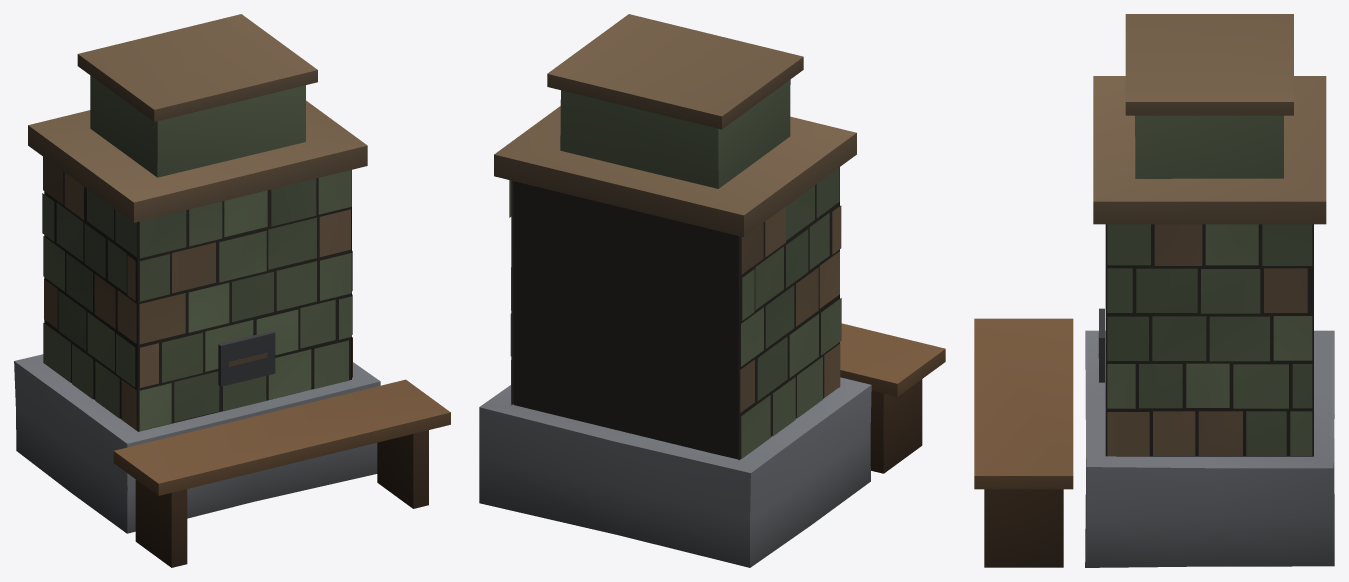
The model's file is ph_int_inn_stove.glb.
The picture shows the model from 3 angles, left to right: view 1: azimuth 30°, elevation 25°; view 2: azimuth 150°, elevation 25°; view 3: azimuth 270°, elevation 25°; orthographic projection. The views are drawn at different scales.
Visible parts, largest first — view 1: ph_int_inn_stove; view 2: ph_int_inn_stove; view 3: ph_int_inn_stove.
Part boxes in pixels (x1,y1,x2,y2): ph_int_inn_stove: [14, 14, 450, 567]; ph_int_inn_stove: [479, 14, 945, 567]; ph_int_inn_stove: [974, 14, 1334, 567].
Bounding box in the file's own units: 1.5 × 1.96 × 1.45.
